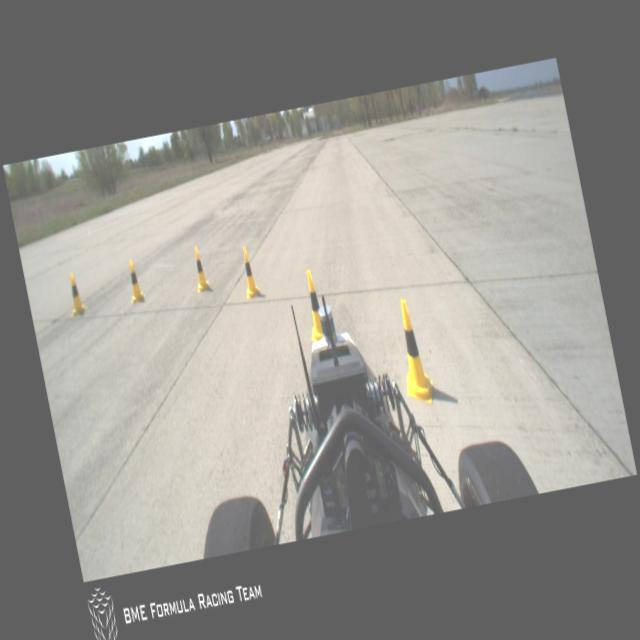yellow_cone: (390, 297, 436, 407), (298, 268, 329, 345), (237, 245, 260, 300), (124, 258, 146, 304), (64, 272, 86, 318), (190, 246, 210, 293)
